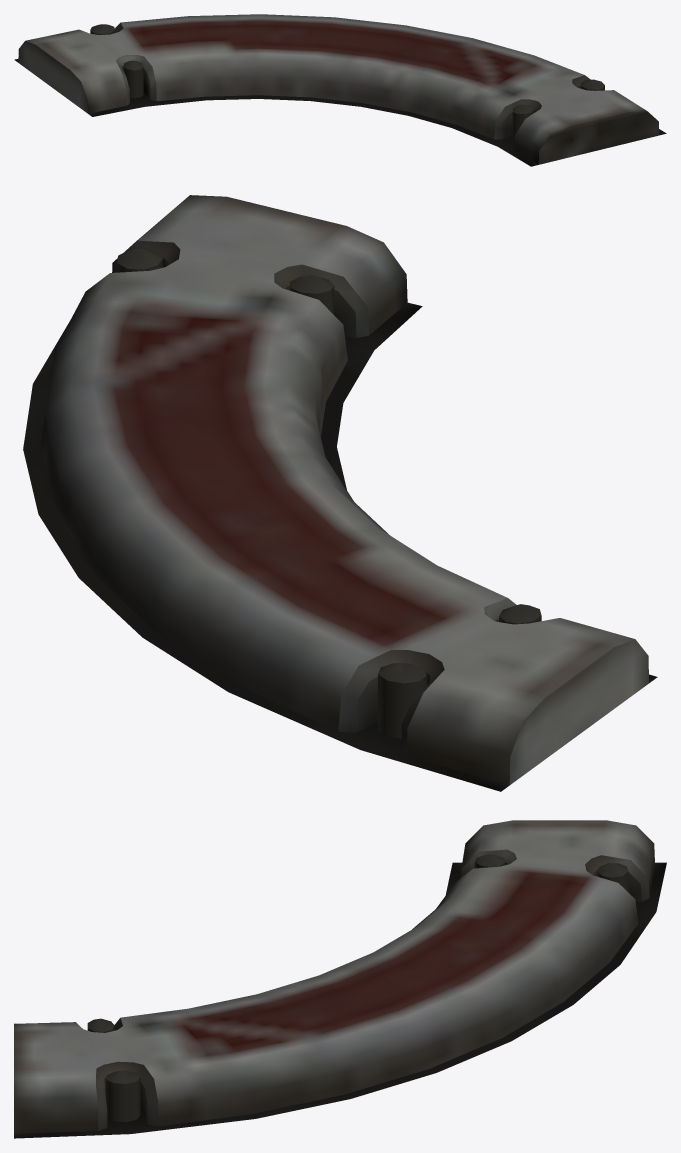
The model's file is Panel_01.FBX.
The picture shows the model from 3 angles, top to bottom: view 1: azimuth 30°, elevation 25°; view 2: azimuth 150°, elevation 25°; view 3: azimuth 270°, elevation 25°; orthographic projection. The views are drawn at different scales.
Parts seen in each view (by area): view 1: Panel_01; view 2: Panel_01; view 3: Panel_01.
Part boxes in pixels (x1=…): Panel_01: x1=14, y1=14, x2=666, y2=166; Panel_01: x1=23, y1=195, x2=657, y2=791; Panel_01: x1=14, y1=820, x2=666, y2=1138.
Bounding box in the file's own units: 152 × 11.75 × 152.
